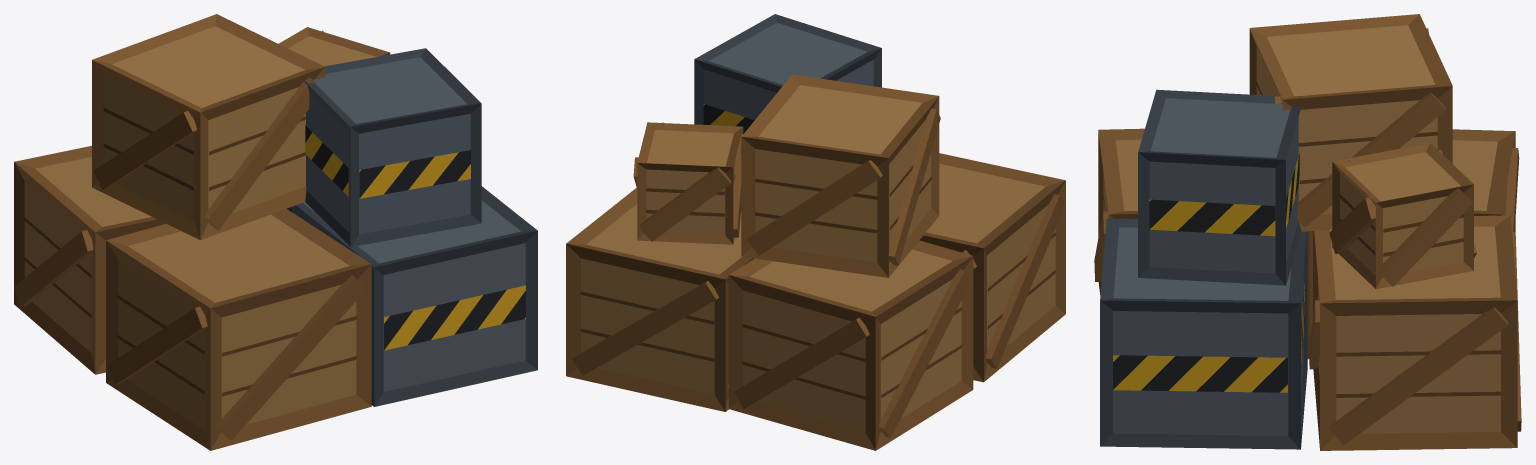
Rendered from break_crate.glb.
3 renders of one model, left to right at view 1: azimuth 30°, elevation 25°; view 2: azimuth 150°, elevation 25°; view 3: azimuth 270°, elevation 25°, orthographic. The views are drawn at different scales.
Visible parts, largest first — view 1: Piece1, Piece5, Piece6, Piece2, Piece3, Piece7; view 2: Piece3, Piece5, Piece4, Piece1, Piece6, Piece7; view 3: Piece4, Piece2, Piece6, Piece5, Piece7, Piece3, Piece1.
Boxes of the visible parts, left/top/right/bottom form: Piece1: left=106, top=209, right=371, bottom=450; Piece5: left=92, top=14, right=325, bottom=240; Piece6: left=304, top=48, right=481, bottom=246; Piece2: left=287, top=186, right=537, bottom=406; Piece3: left=14, top=145, right=165, bottom=374; Piece7: left=278, top=27, right=390, bottom=66; Piece3: left=728, top=240, right=973, bottom=450; Piece5: left=740, top=74, right=940, bottom=277; Piece4: left=566, top=188, right=754, bottom=411; Piece1: left=919, top=153, right=1065, bottom=382; Piece6: left=694, top=14, right=881, bottom=133; Piece7: left=633, top=122, right=743, bottom=244; Piece4: left=1309, top=215, right=1521, bottom=450; Piece2: left=1100, top=218, right=1307, bottom=449; Piece6: left=1138, top=89, right=1301, bottom=285; Piece5: left=1249, top=14, right=1452, bottom=231; Piece7: left=1329, top=143, right=1476, bottom=289; Piece3: left=1309, top=129, right=1519, bottom=340; Piece1: left=1094, top=128, right=1309, bottom=359.
Size of the model in its own units: 2.45 by 1.8 by 2.46.
